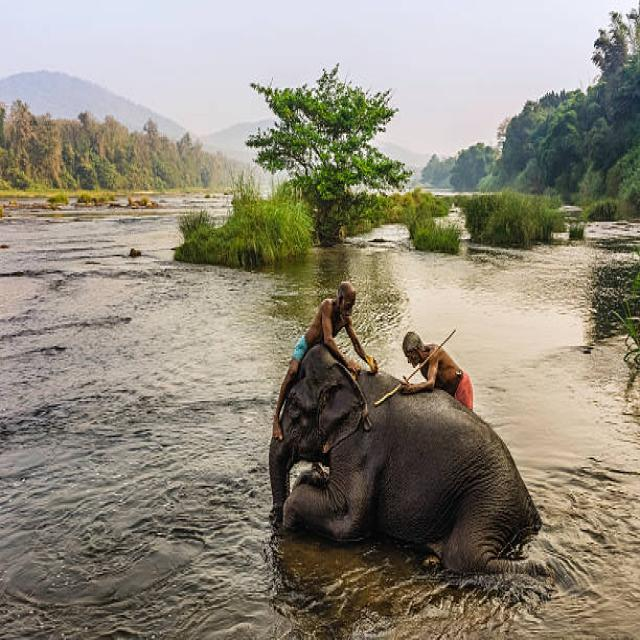Elephant: (260, 338, 552, 594)
